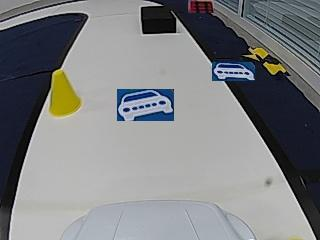block: (141, 6, 176, 33)
cone: (48, 69, 82, 117)
